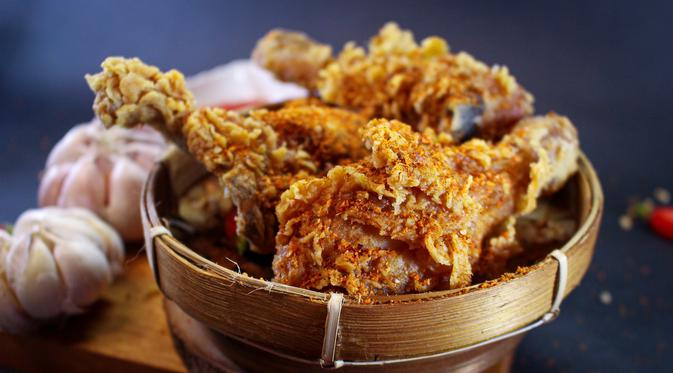Ayam: (286, 98, 607, 315), (60, 44, 290, 236), (243, 19, 520, 138)
